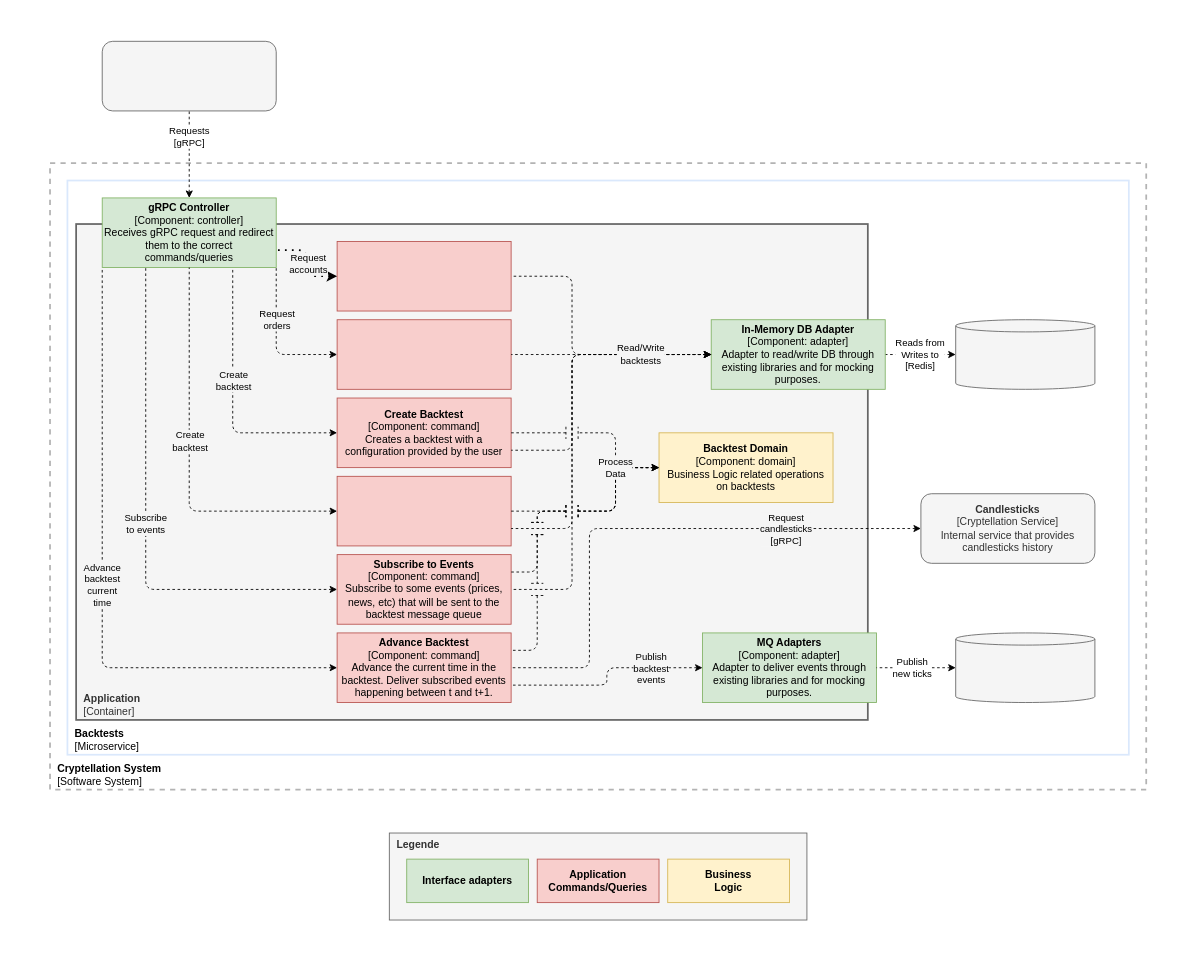
Some shapes in this 1195 by 969 pixel diagram are drawn without their labels. The shapes that lost their labels are listed below. From the top down, each one's centre as x and y in pixels, then its label:
At point (188, 75): "User [Application] Application that a user will run to execute its strategies.".
At point (423, 276): "Get Accounts [Component: query] Get a detailed list of a backtest accounts".
At point (423, 354): "Get Orders [Component: query] Get a detailed list of a backtest orders".
At point (1025, 354): "Redis [In-Memory Database] Store backtests informations".
At point (423, 510): "Create Order [Component: command] Creates a backtest order to buy or sell assets".
At point (1025, 667): "NATS [Message Broker Service] Publish/Receive messages asynchronously".
